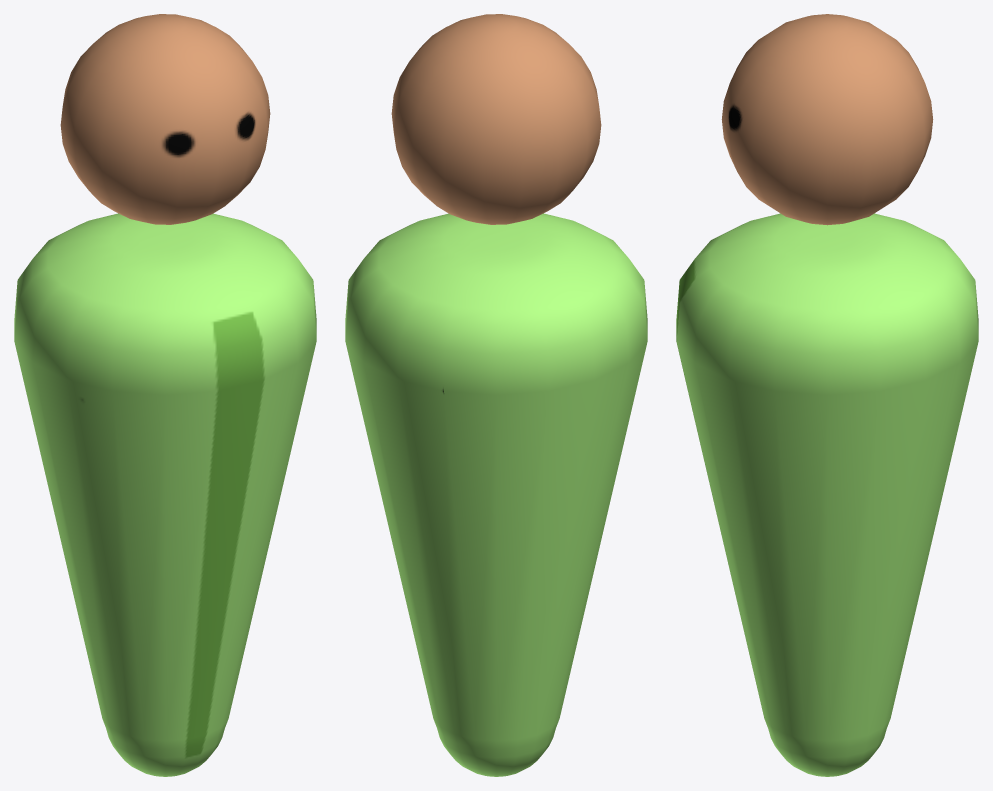
Rendered from Peon_Test.fbx.
The picture shows the model from 3 angles, left to right: view 1: azimuth 30°, elevation 25°; view 2: azimuth 150°, elevation 25°; view 3: azimuth 270°, elevation 25°; orthographic projection.
Parts seen in each view (by area): view 1: pasted__pSphere1; view 2: pasted__pSphere1; view 3: pasted__pSphere1.
Part boxes in pixels (<box>): pasted__pSphere1: <box>14,14,316,776</box>; pasted__pSphere1: <box>345,14,647,776</box>; pasted__pSphere1: <box>676,14,978,776</box>.
Size of the model in its own units: 29.02 by 78.05 by 28.58.
Materials: 1 (1 with a texture image).
